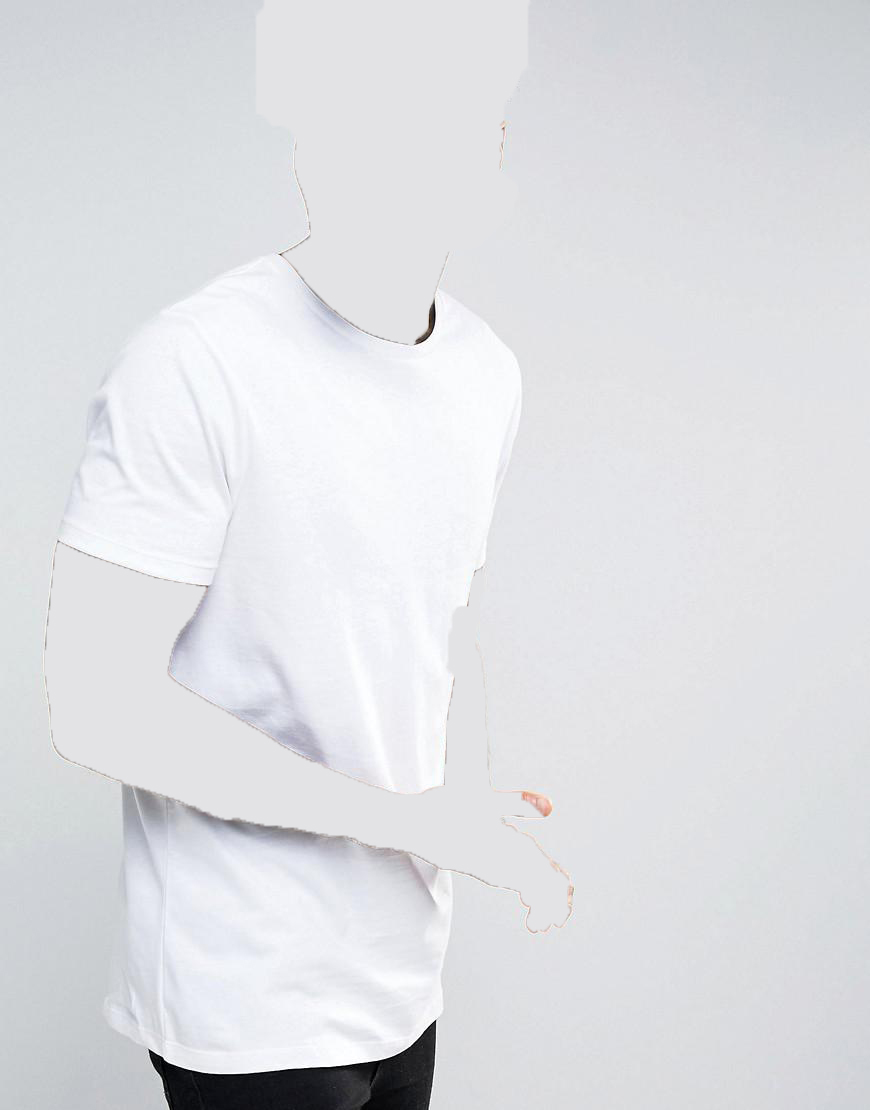teeshirt: (68, 246, 527, 1079)
